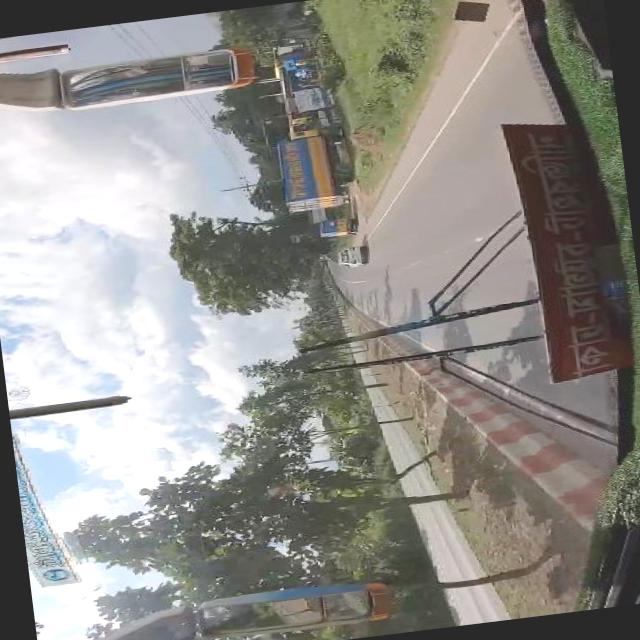car: (336, 244, 364, 268)
truck: (273, 115, 357, 212), (314, 214, 354, 238)
